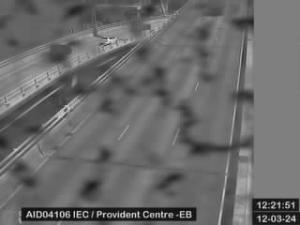vehicle: (101, 36, 119, 44)
